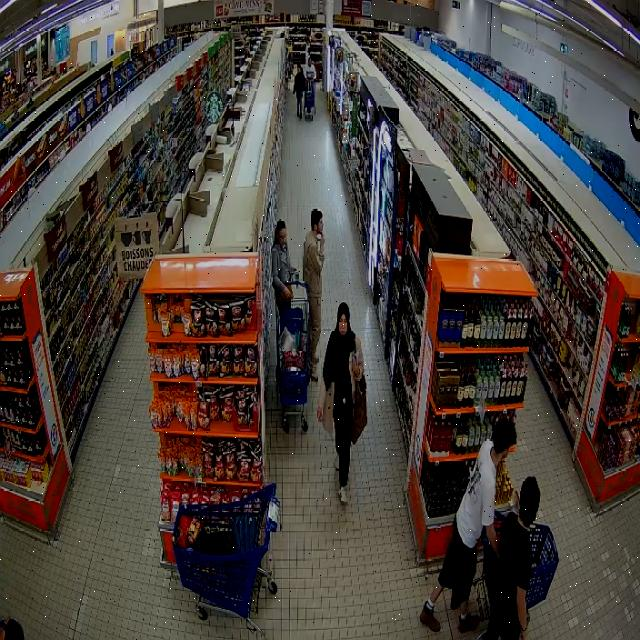bags: (353, 377, 366, 443)
hands: (352, 363, 360, 377), (282, 288, 293, 298), (316, 409, 321, 423)
person: (420, 417, 515, 632), (317, 302, 363, 503), (484, 477, 539, 639), (303, 209, 324, 379), (271, 220, 296, 304), (294, 64, 305, 118), (304, 57, 315, 80)
